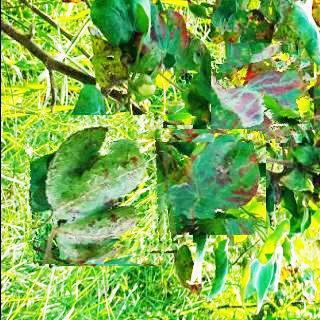blight: (159, 129, 261, 231), (214, 47, 309, 143)
leaf spot: (26, 117, 174, 264)
